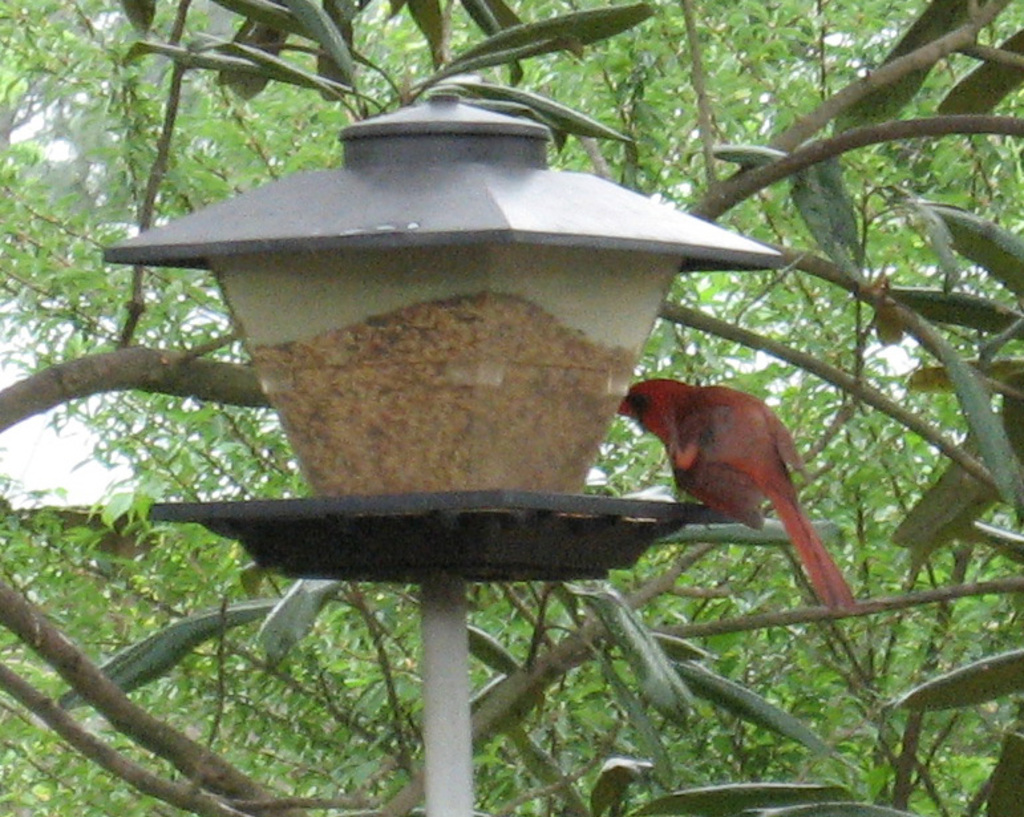Bird: (618, 380, 857, 609)
